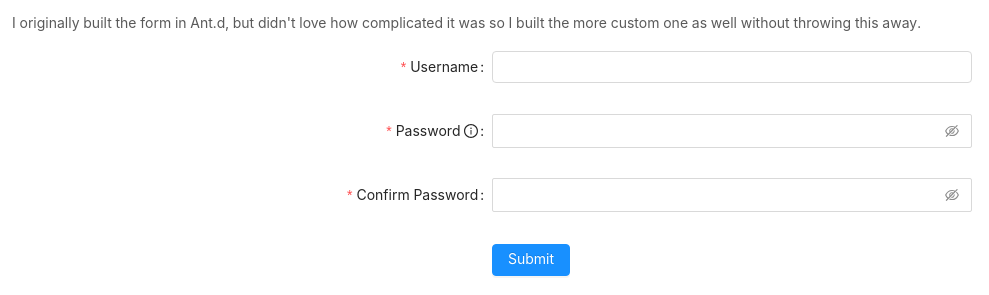
Test: Confirmation password field › should show error about needing to match when this password does not match initial
The image size is (989, 295).
Type "abcdef" into the password field labelled "Confirm Password". click: (732, 194)
box: [493,178,971,210]
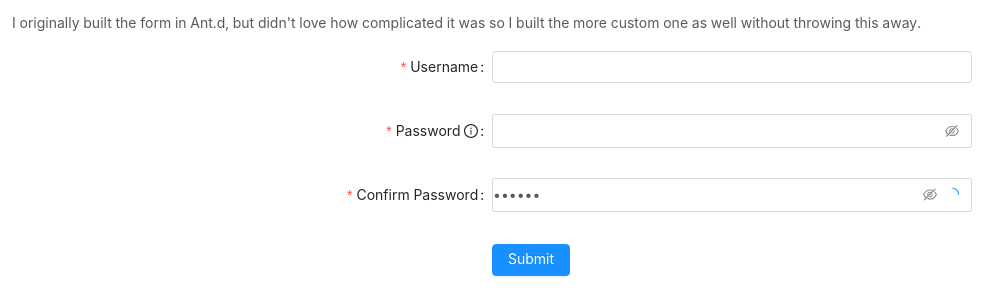
Leave the password field labelled "Confirm Password", box [493,178,971,210]
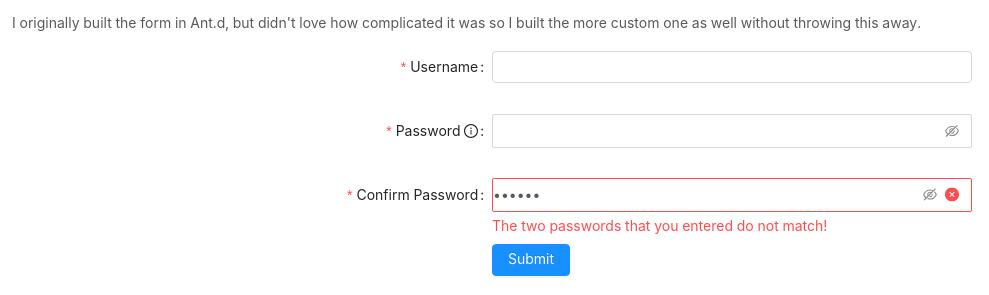
Expected: the text "The two passwords that you entered do not match!" is shown, [492,217,827,234]
